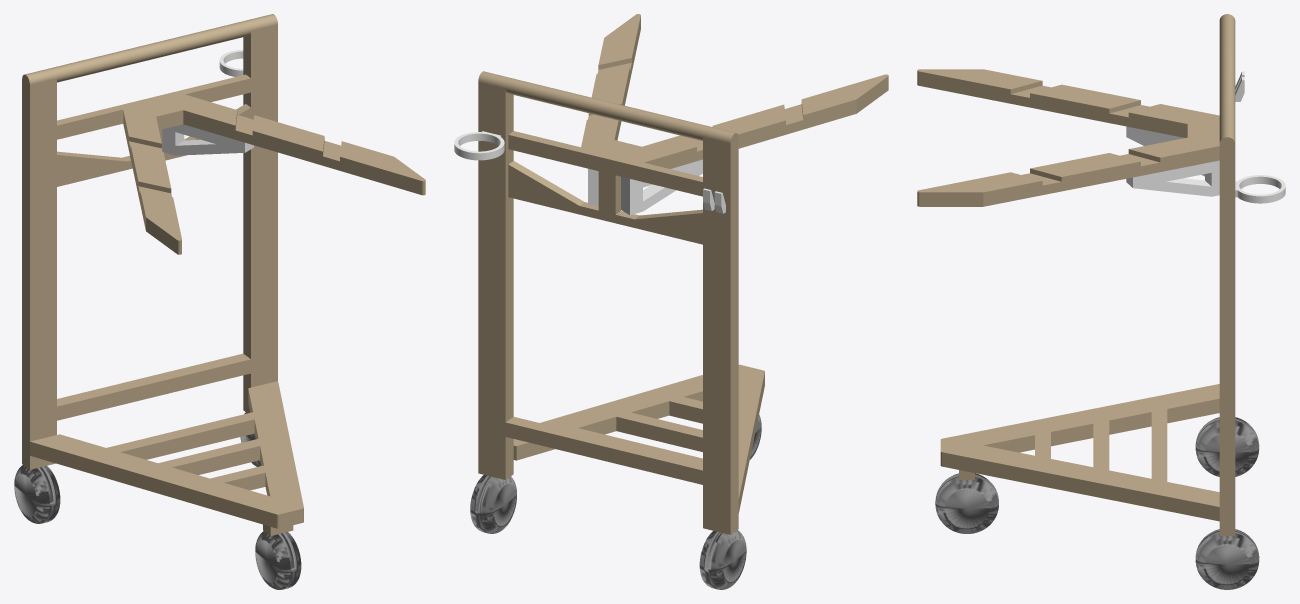
File: cartOpen.glb
3 views of the same model, side by side, from view 1: azimuth 30°, elevation 25°; view 2: azimuth 150°, elevation 25°; view 3: azimuth 270°, elevation 25° (orthographic).
Visible parts, largest first — view 1: Body1, Body1.005, Body1.006, Body1.003, Body1.001; view 2: Body1, Body1.005, Body1.007, Body1.002, Body1.010; view 3: Body1, Body1.007, Body1.006, Body1.005, Body1.003, Body1.001, Body1.010, Body1.004.
Part boxes in pixels (bbox=[...]): Body1: bbox=[22, 14, 425, 535]; Body1.005: bbox=[14, 465, 60, 523]; Body1.006: bbox=[255, 531, 301, 589]; Body1.003: bbox=[162, 129, 244, 155]; Body1.001: bbox=[165, 124, 253, 152]; Body1: bbox=[478, 14, 888, 534]; Body1.005: bbox=[699, 530, 746, 589]; Body1.007: bbox=[470, 475, 516, 533]; Body1.002: bbox=[621, 170, 702, 215]; Body1.010: bbox=[454, 131, 504, 160]; Body1: bbox=[917, 14, 1235, 535]; Body1.007: bbox=[1195, 529, 1259, 589]; Body1.006: bbox=[935, 473, 998, 533]; Body1.005: bbox=[1195, 417, 1259, 476]; Body1.003: bbox=[1133, 171, 1219, 196]; Body1.001: bbox=[1126, 160, 1219, 187]; Body1.010: bbox=[1235, 175, 1285, 203]; Body1.004: bbox=[1126, 126, 1184, 143].
Size of the model in its own units: 56.75 by 95 by 69.53.
